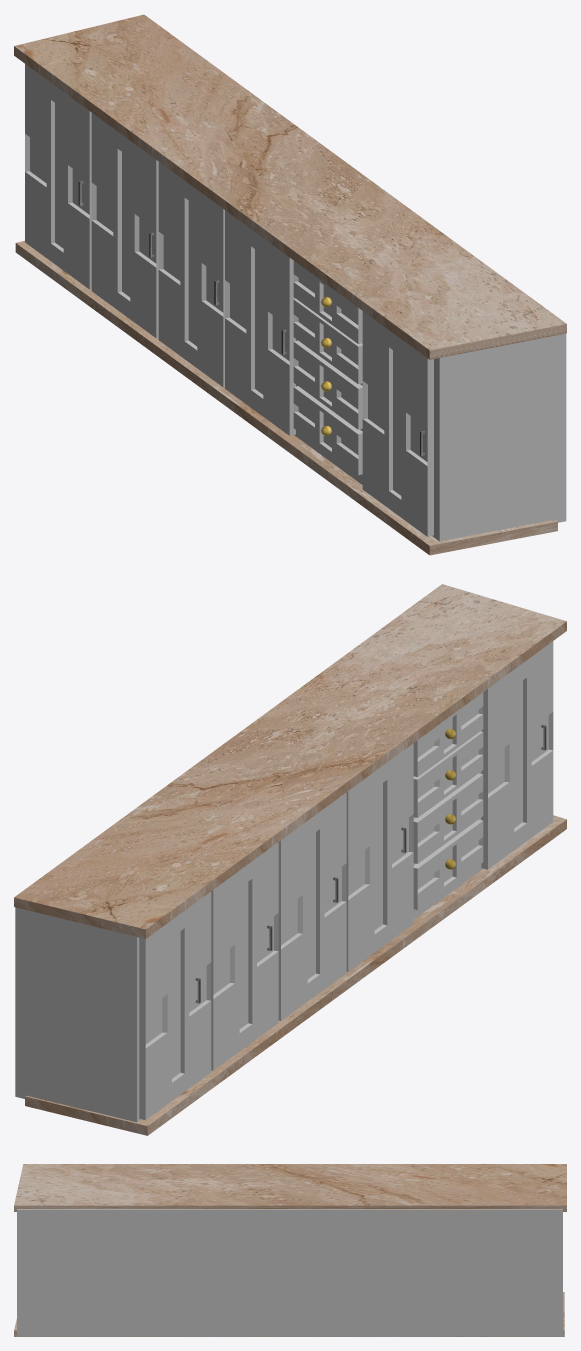
Rendered from draws next to the fridge.fbx.
3 views of the same model, one above another, from view 1: azimuth 30°, elevation 25°; view 2: azimuth 150°, elevation 25°; view 3: azimuth 270°, elevation 25° (orthographic). The views are drawn at different scales.
Visible parts, largest first — view 1: pCube1008, pCube997, pCube1068, pCube1067, pCube1065, pCube1000, pCube1066, pCube999, pCube1071, pCube1070, pCube1069, pCube1010; view 2: pCube1008, pCube997, pCube1000, pCube1068, pCube1066, pCube1067, pCube1065, pCube999, pCube1071, pCube1070, pCube1069, pCube1010; view 3: pCube997, pCube1008, pCube999.
Boxes of the visible parts, bbox=[...] form: pCube1008: bbox=[14, 14, 566, 359]; pCube997: bbox=[294, 333, 566, 541]; pCube1068: bbox=[362, 311, 433, 536]; pCube1067: bbox=[225, 210, 295, 435]; pCube1065: bbox=[91, 113, 158, 338]; pCube1000: bbox=[25, 64, 91, 289]; pCube1066: bbox=[158, 162, 224, 387]; pCube999: bbox=[15, 240, 557, 555]; pCube1071: bbox=[293, 386, 362, 475]; pCube1070: bbox=[293, 340, 362, 429]; pCube1069: bbox=[293, 299, 362, 384]; pCube1010: bbox=[293, 260, 362, 343]; pCube1008: bbox=[14, 584, 566, 938]; pCube997: bbox=[15, 772, 482, 1122]; pCube1000: bbox=[139, 891, 211, 1120]; pCube1068: bbox=[481, 641, 553, 869]; pCube1066: bbox=[278, 792, 346, 1020]; pCube1067: bbox=[346, 743, 413, 971]; pCube1065: bbox=[211, 842, 278, 1070]; pCube999: bbox=[25, 815, 566, 1135]; pCube1071: bbox=[413, 819, 483, 909]; pCube1070: bbox=[413, 773, 483, 863]; pCube1069: bbox=[413, 731, 483, 817]; pCube1010: bbox=[413, 692, 483, 777]; pCube997: bbox=[17, 1209, 562, 1336]; pCube1008: bbox=[14, 1164, 566, 1211]; pCube999: bbox=[14, 1292, 564, 1336].
Bounding box in the file's own units: 130 × 193 × 721.
